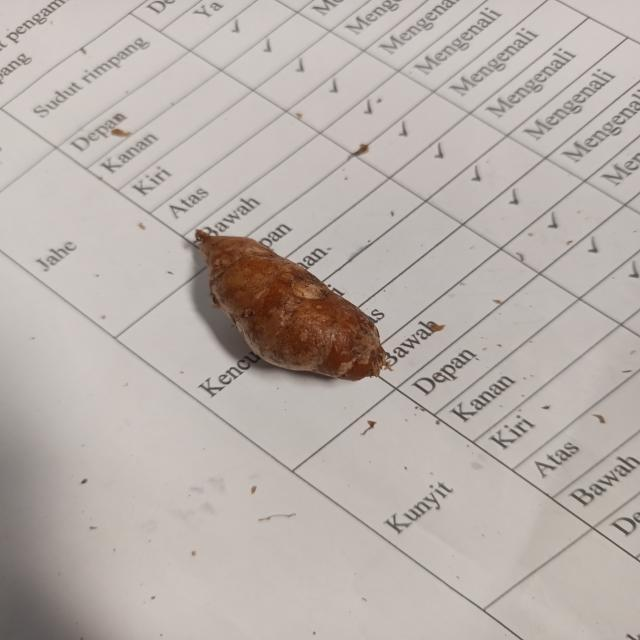ginger: (202, 228, 386, 380)
